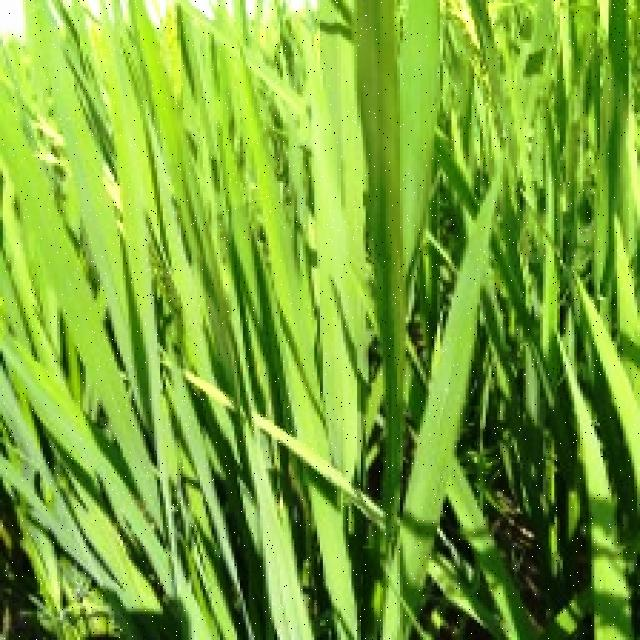health: (0, 0, 417, 503)
